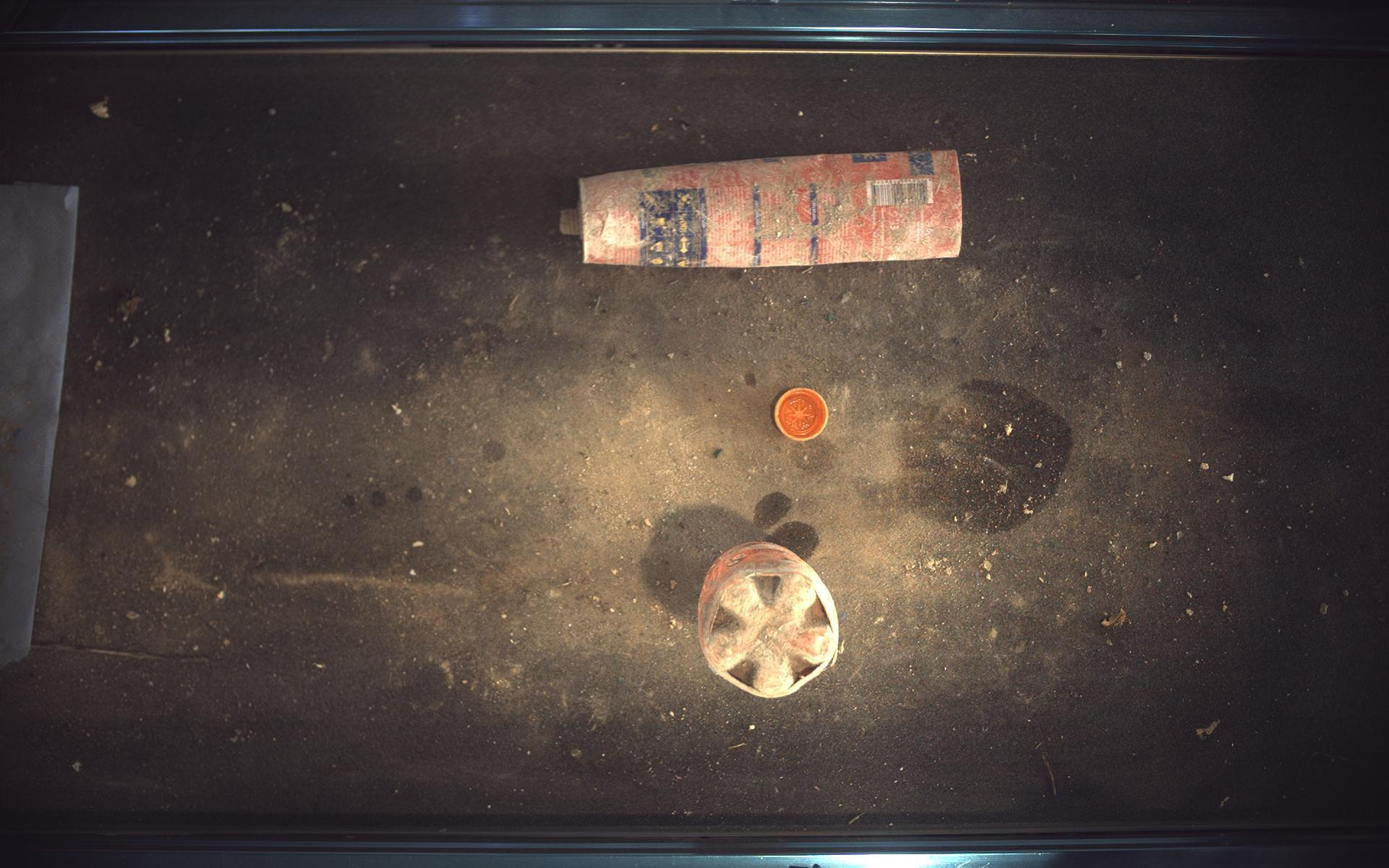general_w: (700, 543, 841, 699), (776, 388, 830, 441)
plastic: (562, 149, 964, 267)
